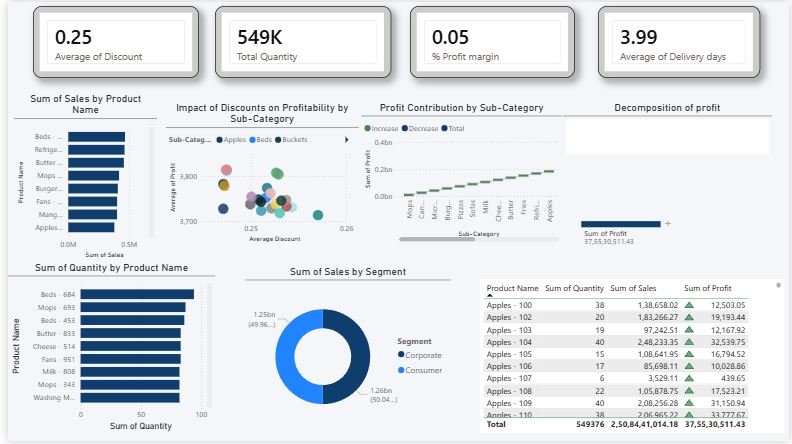

Layout of this report page (visuals, bound fields, positions):
{"tool":"powerbi","page":{"name":"Product Analysis","canvas":[1280,720],"ordinal":1},"visuals":[{"type":"cardVisual","fields":{"Data":["Avg(store_sales_data (2) (1).Discount)"]},"box":[41,6.6,272.1,118],"z":0},{"type":"cardVisual","fields":{"Data":["Sum(store_sales_data (2) (1).Quantity)"]},"box":[339.3,6.6,288.5,118],"z":1000},{"type":"clusteredBarChart","fields":{"Category":["store_sales_data (2) (1).Product Name"],"Y":["Sum(store_sales_data (2) (1).Sales)"]},"box":[9.9,147.4,235.3,276.4],"z":2000},{"type":"tableEx","fields":{"Values":["store_sales_data (2) (1).Product Name","Sum(store_sales_data (2) (1).Quantity)","Sum(store_sales_data (2) (1).Sales)","Sum(store_sales_data (2) (1).Profit)"]},"box":[774.4,453.5,498.9,252],"z":3000},{"type":"cardVisual","fields":{"Data":["Min(store_sales_data (2) (1).Profit margin)"]},"box":[659,6.6,270.5,118],"z":4000},{"type":"cardVisual","fields":{"Data":["Avg(store_sales_data (2) (1).Delivery days)"]},"box":[967.2,6.6,265.6,118],"z":5000},{"type":"scatterChart","title":"Impact of Discounts on Profitability by Sub-Category","fields":{"Y":["Avg(store_sales_data (2) (1).Profit)"],"X":["Avg(store_sales_data (2) (1).Discount)"],"Size":["Sum(store_sales_data (2) (1).Sales)"],"Series":["store_sales_data (2) (1).Sub-Category"]},"box":[258.7,161.9,315.9,234.9],"z":6000},{"type":"clusteredBarChart","fields":{"Category":["store_sales_data (2) (1).Product Name"],"Y":["Sum(store_sales_data (2) (1).Quantity)"]},"box":[0,423.8,339.7,282.5],"z":7000},{"type":"waterfallChart","title":"Profit Contribution by Sub-Category","fields":{"Category":["store_sales_data (2) (1).Sub-Category"],"Y":["Sum(store_sales_data (2) (1).Profit)"]},"box":[579.4,161.9,330.2,234.9],"z":8000},{"type":"decompositionTreeVisual","title":"Decomposition of profit","fields":{"Analyze":["Sum(store_sales_data (2) (1).Profit)"],"ExplainBy":["store_sales_data (2) (1).State","store_sales_data (2) (1).Category of Goods","store_sales_data (2) (1).Sub-Category","store_sales_data (2) (1).Segment","store_sales_data (2) (1).Region"]},"box":[909.5,161.9,342.9,254],"z":9000},{"type":"donutChart","fields":{"Category":["store_sales_data (2) (1).Segment"],"Y":["Sum(store_sales_data (2) (1).Sales)"]},"box":[388.9,431.7,338.1,274.6],"z":10000}]}

Visuals, with their boxes in screenshot pixels (x1, y1, x2, y2), scaled from the page's 1280x720 canvas onto the 792x444 screenshot:
cardVisual - Avg(store_sales_data (2) (1).Discount): crop(25, 4, 194, 77)
cardVisual - Sum(store_sales_data (2) (1).Quantity): crop(210, 4, 388, 77)
clusteredBarChart - store_sales_data (2) (1).Product Name x Sum(store_sales_data (2) (1).Sales): crop(6, 91, 152, 261)
tableEx - store_sales_data (2) (1).Product Name x Sum(store_sales_data (2) (1).Quantity): crop(479, 280, 788, 435)
cardVisual - Min(store_sales_data (2) (1).Profit margin): crop(408, 4, 575, 77)
cardVisual - Avg(store_sales_data (2) (1).Delivery days): crop(598, 4, 763, 77)
"Impact of Discounts on Profitability by Sub-Category" scatterChart: crop(160, 100, 356, 245)
clusteredBarChart - store_sales_data (2) (1).Product Name x Sum(store_sales_data (2) (1).Quantity): crop(0, 261, 210, 436)
"Profit Contribution by Sub-Category" waterfallChart: crop(359, 100, 563, 245)
"Decomposition of profit" decompositionTreeVisual: crop(563, 100, 775, 256)
donutChart - store_sales_data (2) (1).Segment x Sum(store_sales_data (2) (1).Sales): crop(241, 266, 450, 436)
